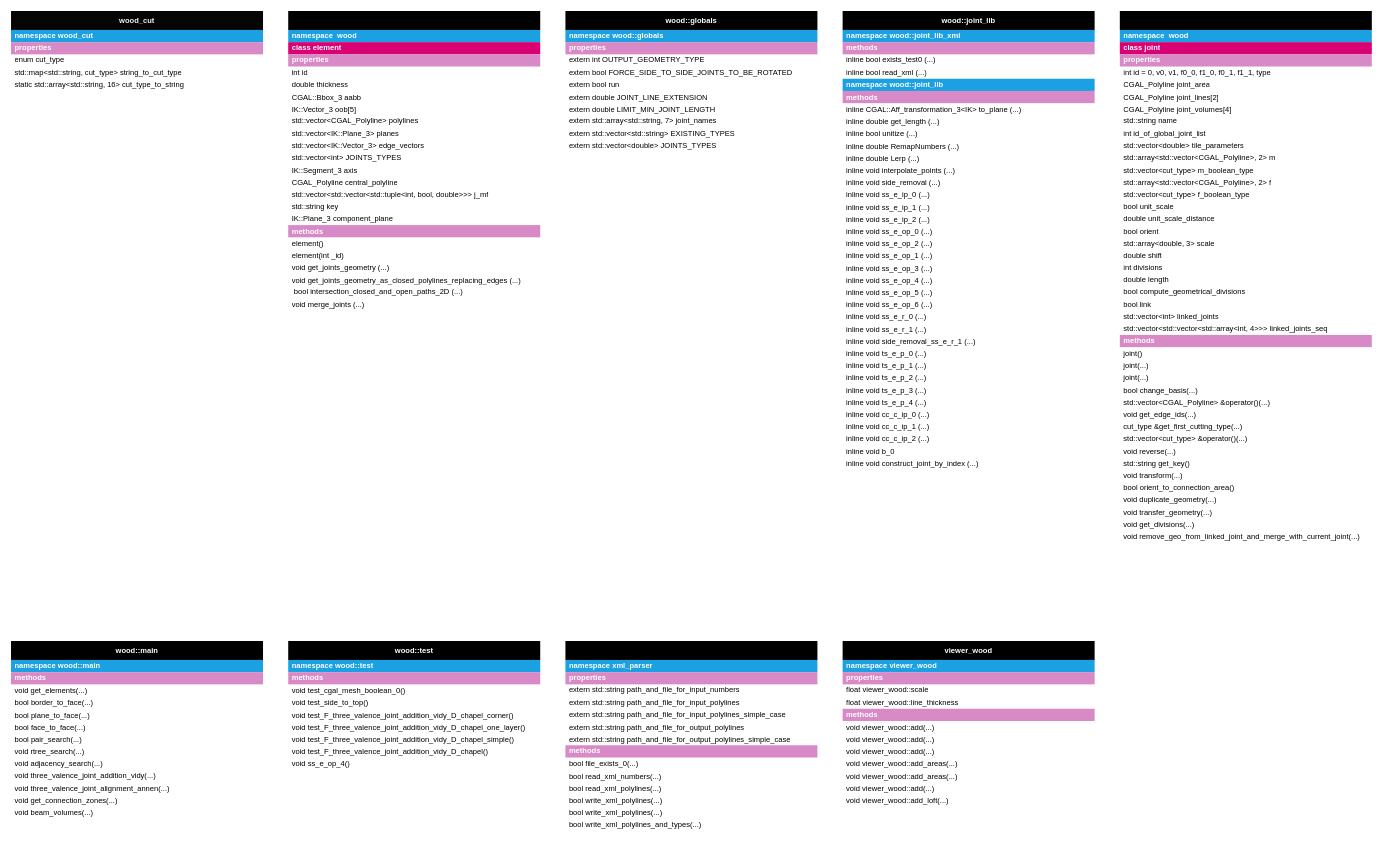
Some shapes in this 1382 by 842 pixel diagram are drawn without their labels. Each missing label, with the box of its shape:
wood::xml: (565, 641, 817, 830)
wood_element: (288, 11, 540, 310)
wood_joint: (1120, 11, 1372, 542)
